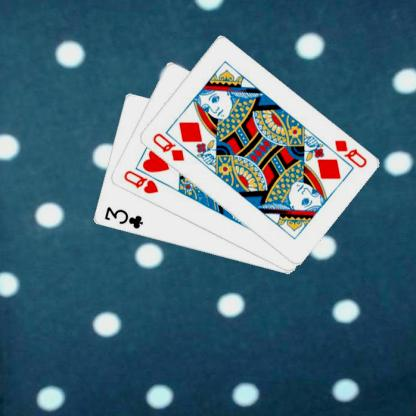3C: (102, 204, 144, 231)
QD: (332, 137, 368, 169), (150, 131, 186, 162)
QH: (121, 168, 159, 196)
